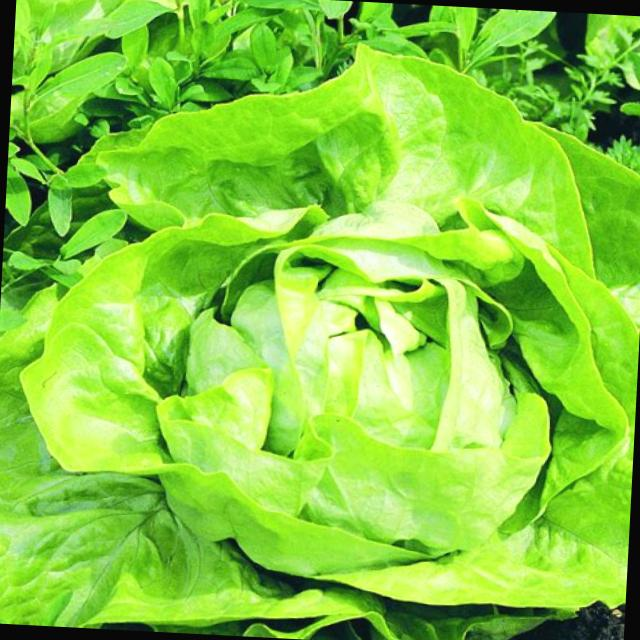Lettuce-Ready-to-Harvest: (20, 77, 640, 619)
